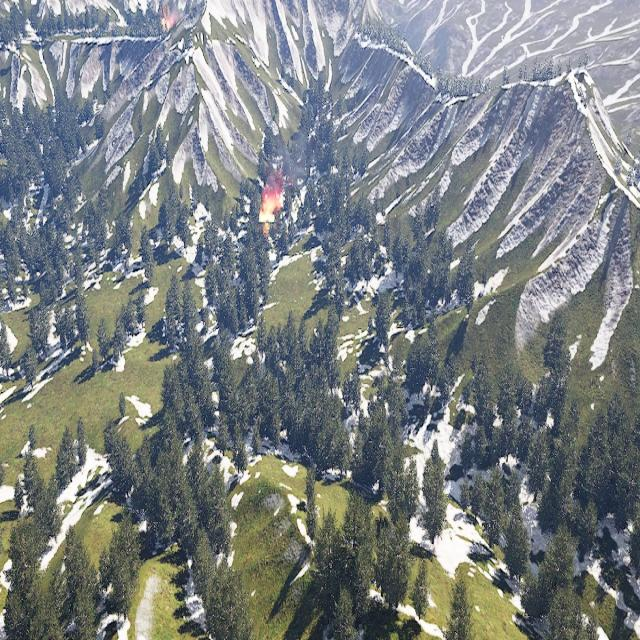fire: (260, 192, 283, 226), (163, 14, 174, 29)
smoke: (262, 144, 306, 191)
